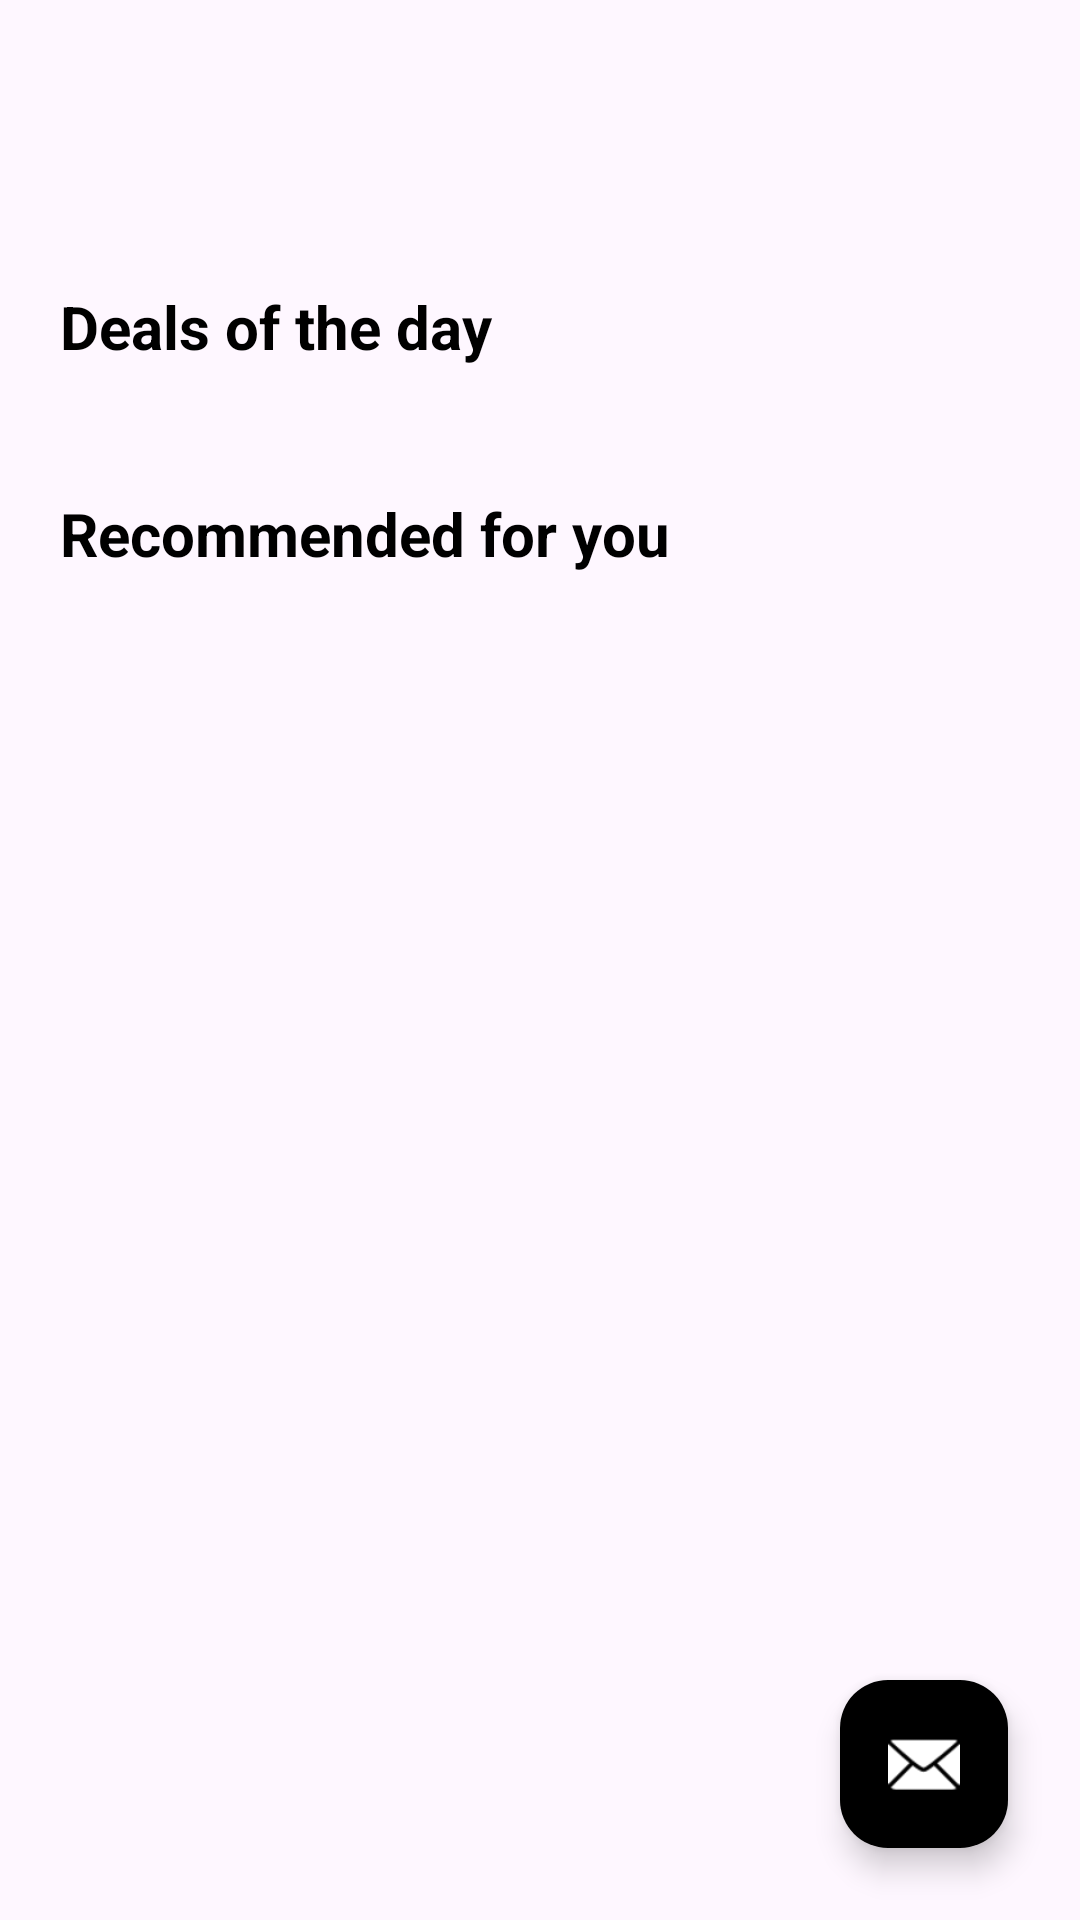

Named icons in this screenshot (1080px x 1920px) and their centers, (x=x, y=y):
Chat with Seller: (x=924, y=1764)
